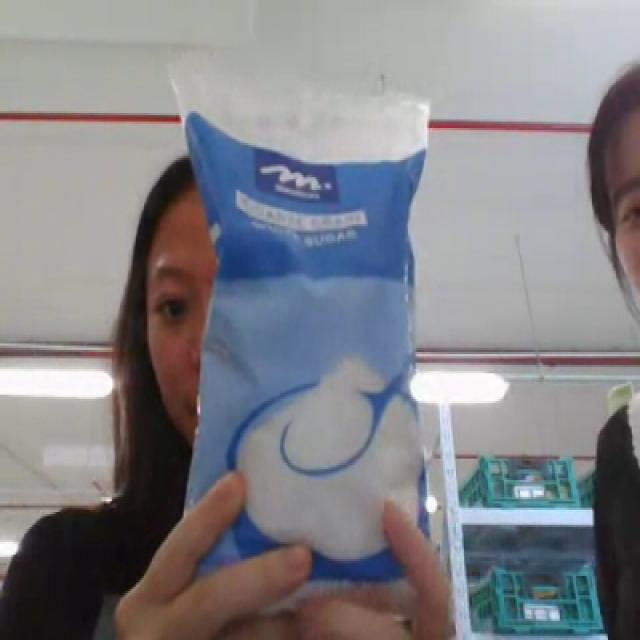object_name: (187, 84, 420, 578)
